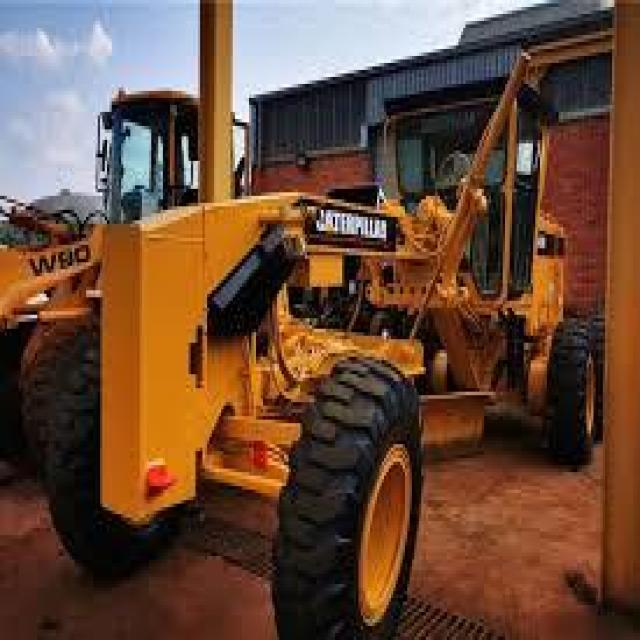bull_dozer/loader/grader: (18, 49, 638, 615)
